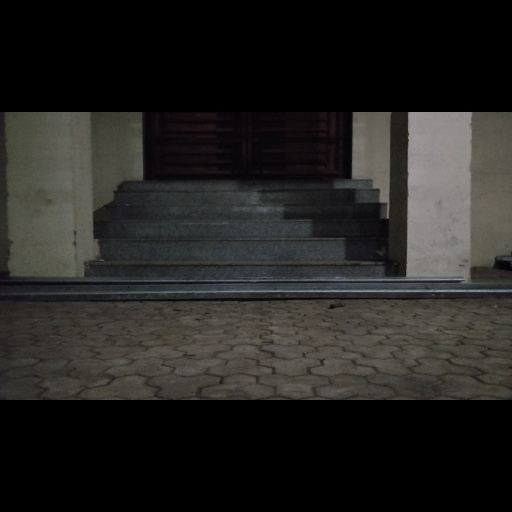Stairs: (86, 180, 396, 280)
